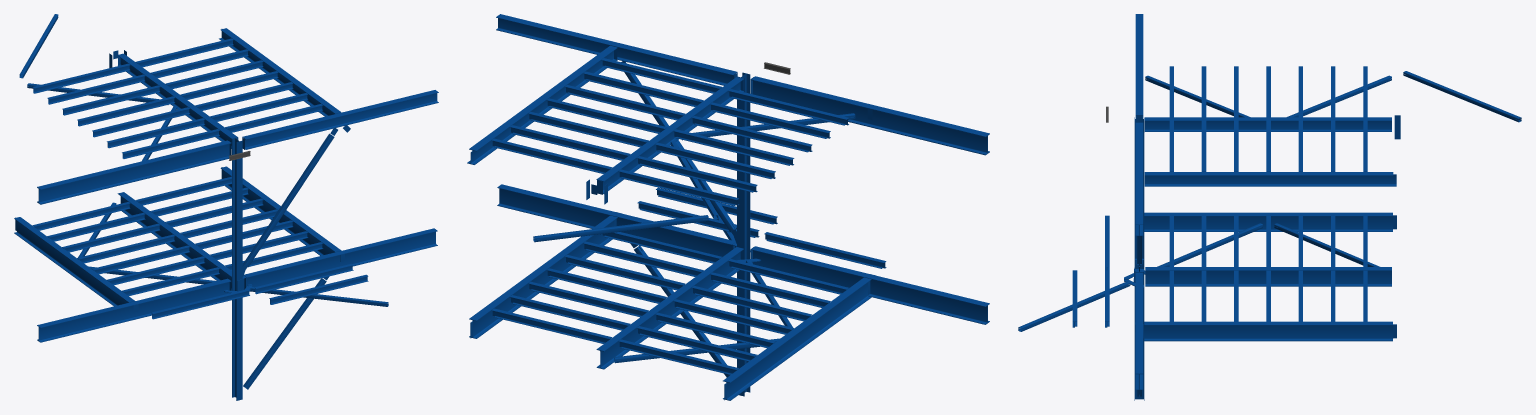
Rendered from GCC-AAV-13220-30.nwd(10).fbx.
The picture shows the model from 3 angles, left to right: view 1: azimuth 30°, elevation 25°; view 2: azimuth 150°, elevation 25°; view 3: azimuth 270°, elevation 25°; orthographic projection. The views are drawn at different scales.
Parts seen in each view (by area): view 1: Группа фасетов (×46); view 2: Группа фасетов (×46); view 3: Группа фасетов (×15).
Boxes of the visible parts, x1=… form: Группа фасетов (×46): x1=14, y1=14, x2=438, y2=400; Группа фасетов (×46): x1=467, y1=14, x2=989, y2=400; Группа фасетов (×15): x1=1018, y1=14, x2=1521, y2=400.
Bounding box in the file's own units: 760 × 472 × 767.
